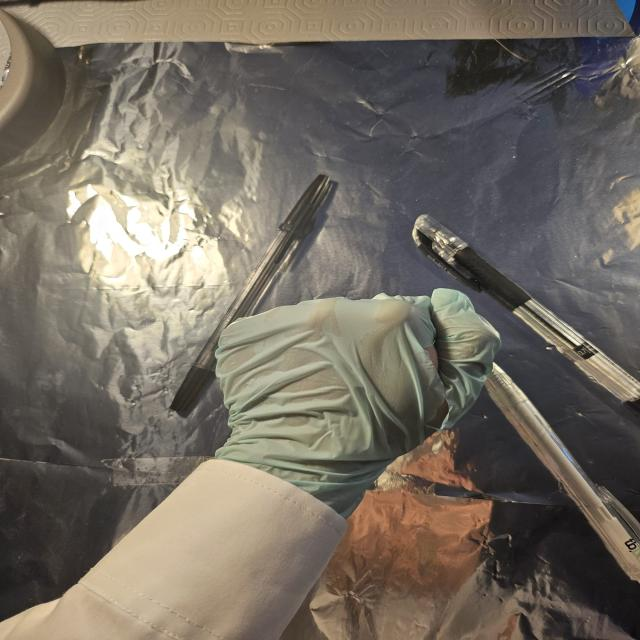gloves_damaged: (204, 285, 502, 510)
